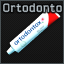Ortodontox toothpaste: (0, 0, 64, 64)
